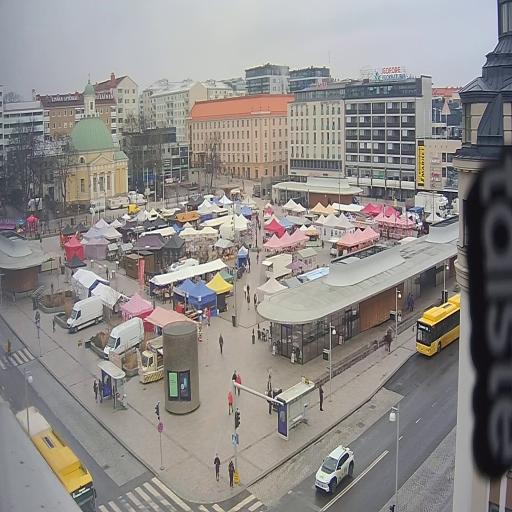bus: (15, 406, 97, 512), (416, 294, 460, 356)
car: (315, 445, 354, 494)
delivery: (103, 317, 144, 359), (67, 296, 103, 333), (137, 336, 163, 384), (415, 192, 449, 217)
